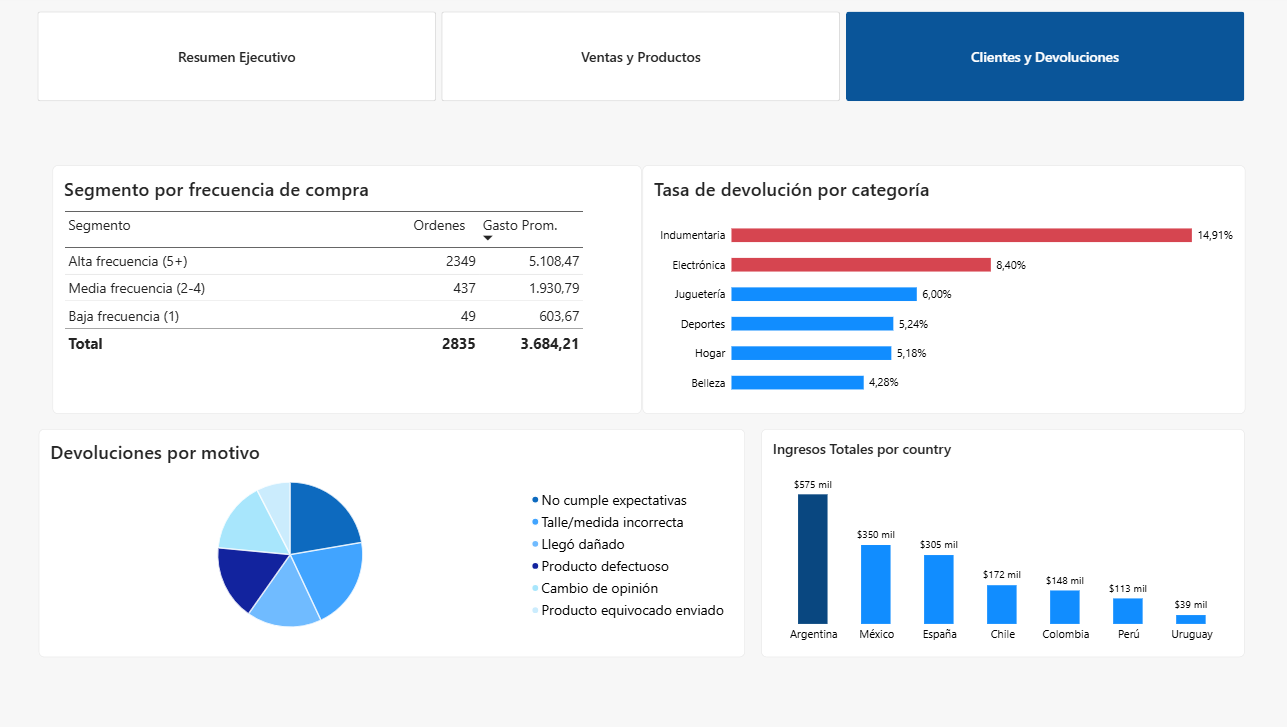

The page's visual inventory and layout, read from the dashboard file:
{"tool":"powerbi","page":{"name":"Clientes y Devoluciones","canvas":[1920,1080],"ordinal":2},"visuals":[{"type":"tableEx","title":"Segmento por frecuencia de compra\n","fields":{"Values":["customers.Segmento Frecuencia","orders.Ordenes Completadas","customers.Gasto Promedio por Cliente"]},"box":[84,248,852.5,360],"z":0},{"type":"barChart","title":"Tasa de devolución por categoría","fields":{"Category":["products.category"],"Y":["orders.Tasa Devolucion"]},"box":[937.5,247.5,872.5,360],"z":1000},{"type":"pieChart","title":"Devoluciones por motivo","fields":{"Category":["returns.reason"],"Y":["orders.Total Devoluciones"]},"box":[62.5,630,1022.5,330],"z":2000},{"type":"columnChart","fields":{"Category":["customers.country"],"Y":["orders.Ingresos Totales"]},"box":[1110,630,700,330],"z":3000},{"type":"pageNavigator","box":[62,26,1748,130],"z":4000}]}

Visuals, with their boxes in screenshot pixels (x1, y1, x2, y2), scaled from the page's 1920x1080 canvas onto the 1287x727 screenshot:
"Segmento por frecuencia de compra
" tableEx: l=56, t=167, r=628, b=409
"Tasa de devolución por categoría" barChart: l=628, t=167, r=1213, b=409
"Devoluciones por motivo" pieChart: l=42, t=424, r=727, b=646
columnChart - customers.country x orders.Ingresos Totales: l=744, t=424, r=1213, b=646
pageNavigator: l=42, t=18, r=1213, b=105
